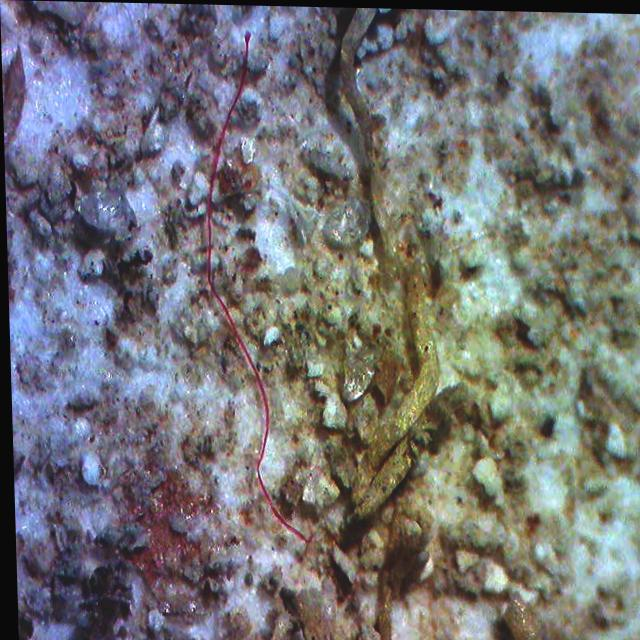microplastic: (178, 30, 311, 551)
